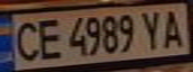4: (63, 14, 87, 57)
8: (100, 11, 121, 54)
9: (115, 11, 139, 53), (81, 12, 103, 56)
A: (157, 6, 187, 49)
C: (6, 17, 42, 63)
E: (33, 16, 66, 62)
Y: (136, 8, 166, 51)
